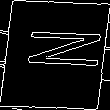N_E: (8, 33, 102, 77)
